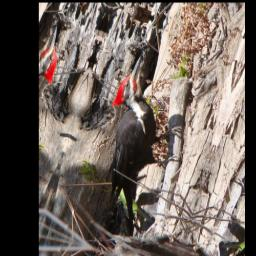Woodpecker: (75, 48, 206, 244)
